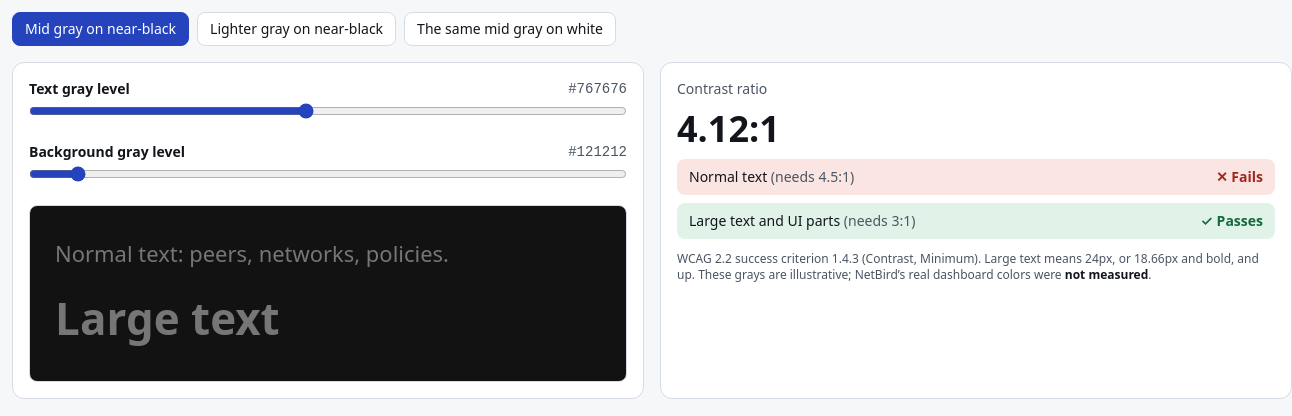
ContrastExplorer › recalculates when a preset is chosen
Click the button "Lighter gray on near-black" at (297, 29), box [197,12,396,46]
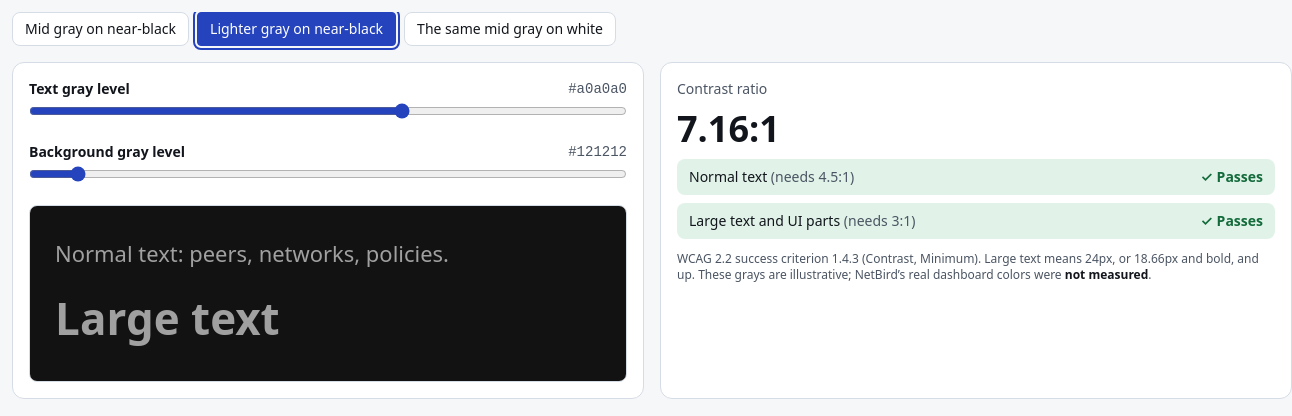
Expected: the list item "Normal text (needs 4.5:1) ✓ Passes" is shown, [677,159,1275,195]
Click the button "The same mid gray on white" at (510, 29), box [404,12,616,46]
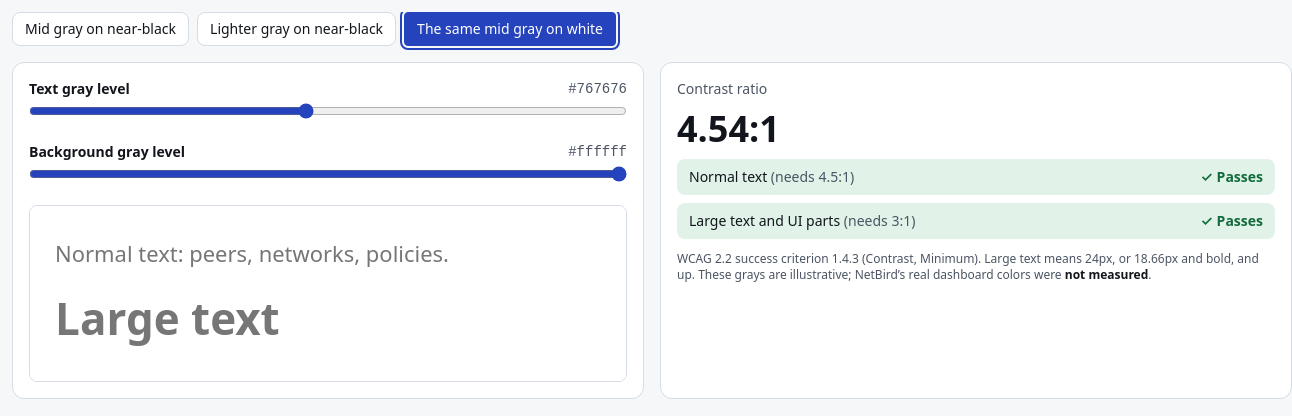
Expected: the list item "Normal text (needs 4.5:1) ✓ Passes" is shown, [677,159,1275,195]
Expected: the text "4.54:1" is shown, [677,104,780,153]
